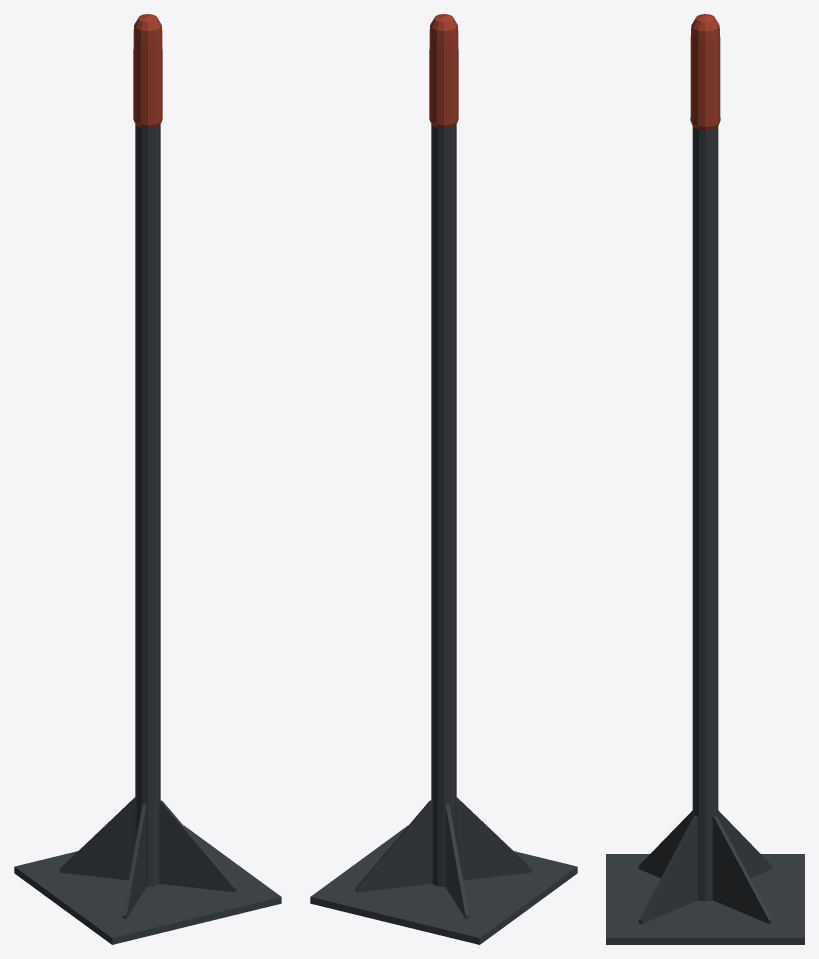
The picture shows the model from 3 angles, left to right: view 1: azimuth 30°, elevation 25°; view 2: azimuth 150°, elevation 25°; view 3: azimuth 270°, elevation 25°; orthographic projection.
Visible parts, largest first — view 1: Straight_round_steel_shaft, Square_heavy_steel_plate, Radial_reinforcing_fin_4, Radial_reinforcing_fin_2, Rounded_closed_rubber_top_grip, Radial_reinforcing_fin_3; view 2: Straight_round_steel_shaft, Square_heavy_steel_plate, Radial_reinforcing_fin_1, Radial_reinforcing_fin_3, Rounded_closed_rubber_top_grip, Radial_reinforcing_fin_2; view 3: Straight_round_steel_shaft, Square_heavy_steel_plate, Rounded_closed_rubber_top_grip, Radial_reinforcing_fin_1, Radial_reinforcing_fin_4, Radial_reinforcing_fin_2, Radial_reinforcing_fin_3.
Boxes of the visible parts, x1,y1,x2,y2 form: Straight_round_steel_shaft: (135,124,160,886); Square_heavy_steel_plate: (14,825,281,944); Radial_reinforcing_fin_4: (159,800,236,892); Radial_reinforcing_fin_2: (59,797,135,880); Rounded_closed_rubber_top_grip: (133,14,162,128); Radial_reinforcing_fin_3: (122,804,146,918); Straight_round_steel_shaft: (431,124,456,886); Square_heavy_steel_plate: (310,825,577,944); Radial_reinforcing_fin_1: (355,800,432,892); Radial_reinforcing_fin_3: (456,797,532,880); Rounded_closed_rubber_top_grip: (429,14,458,128); Radial_reinforcing_fin_2: (445,804,469,918); Straight_round_steel_shaft: (692,126,718,901); Square_heavy_steel_plate: (606,854,804,944); Rounded_closed_rubber_top_grip: (690,14,720,130); Radial_reinforcing_fin_1: (712,816,772,924); Radial_reinforcing_fin_4: (638,816,698,924); Radial_reinforcing_fin_2: (718,810,772,878); Radial_reinforcing_fin_3: (638,810,692,878).
Bounding box in the file's own units: 0.2476 × 1.22 × 0.2476.
